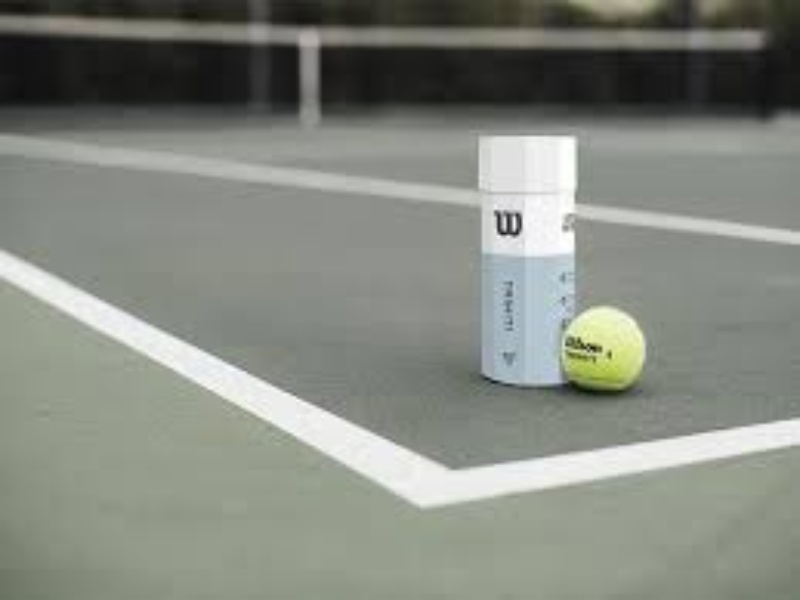tennis ball: (554, 302, 659, 401)
